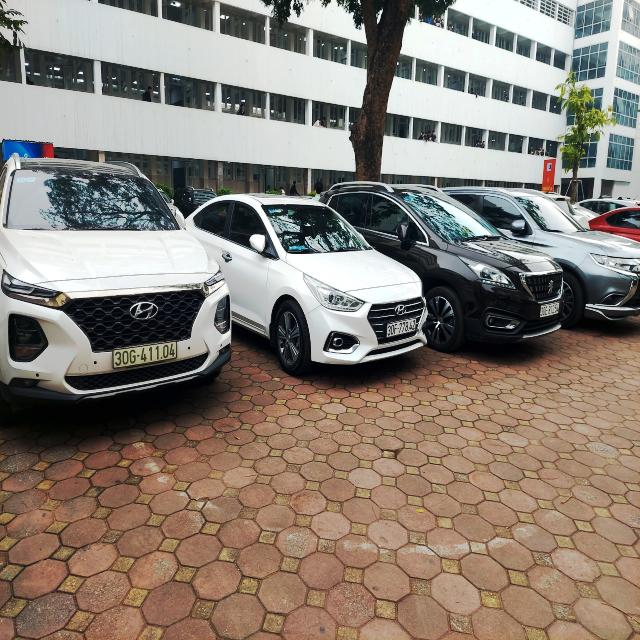license_plate: (114, 342, 179, 369), (387, 319, 417, 338), (541, 302, 561, 318)
